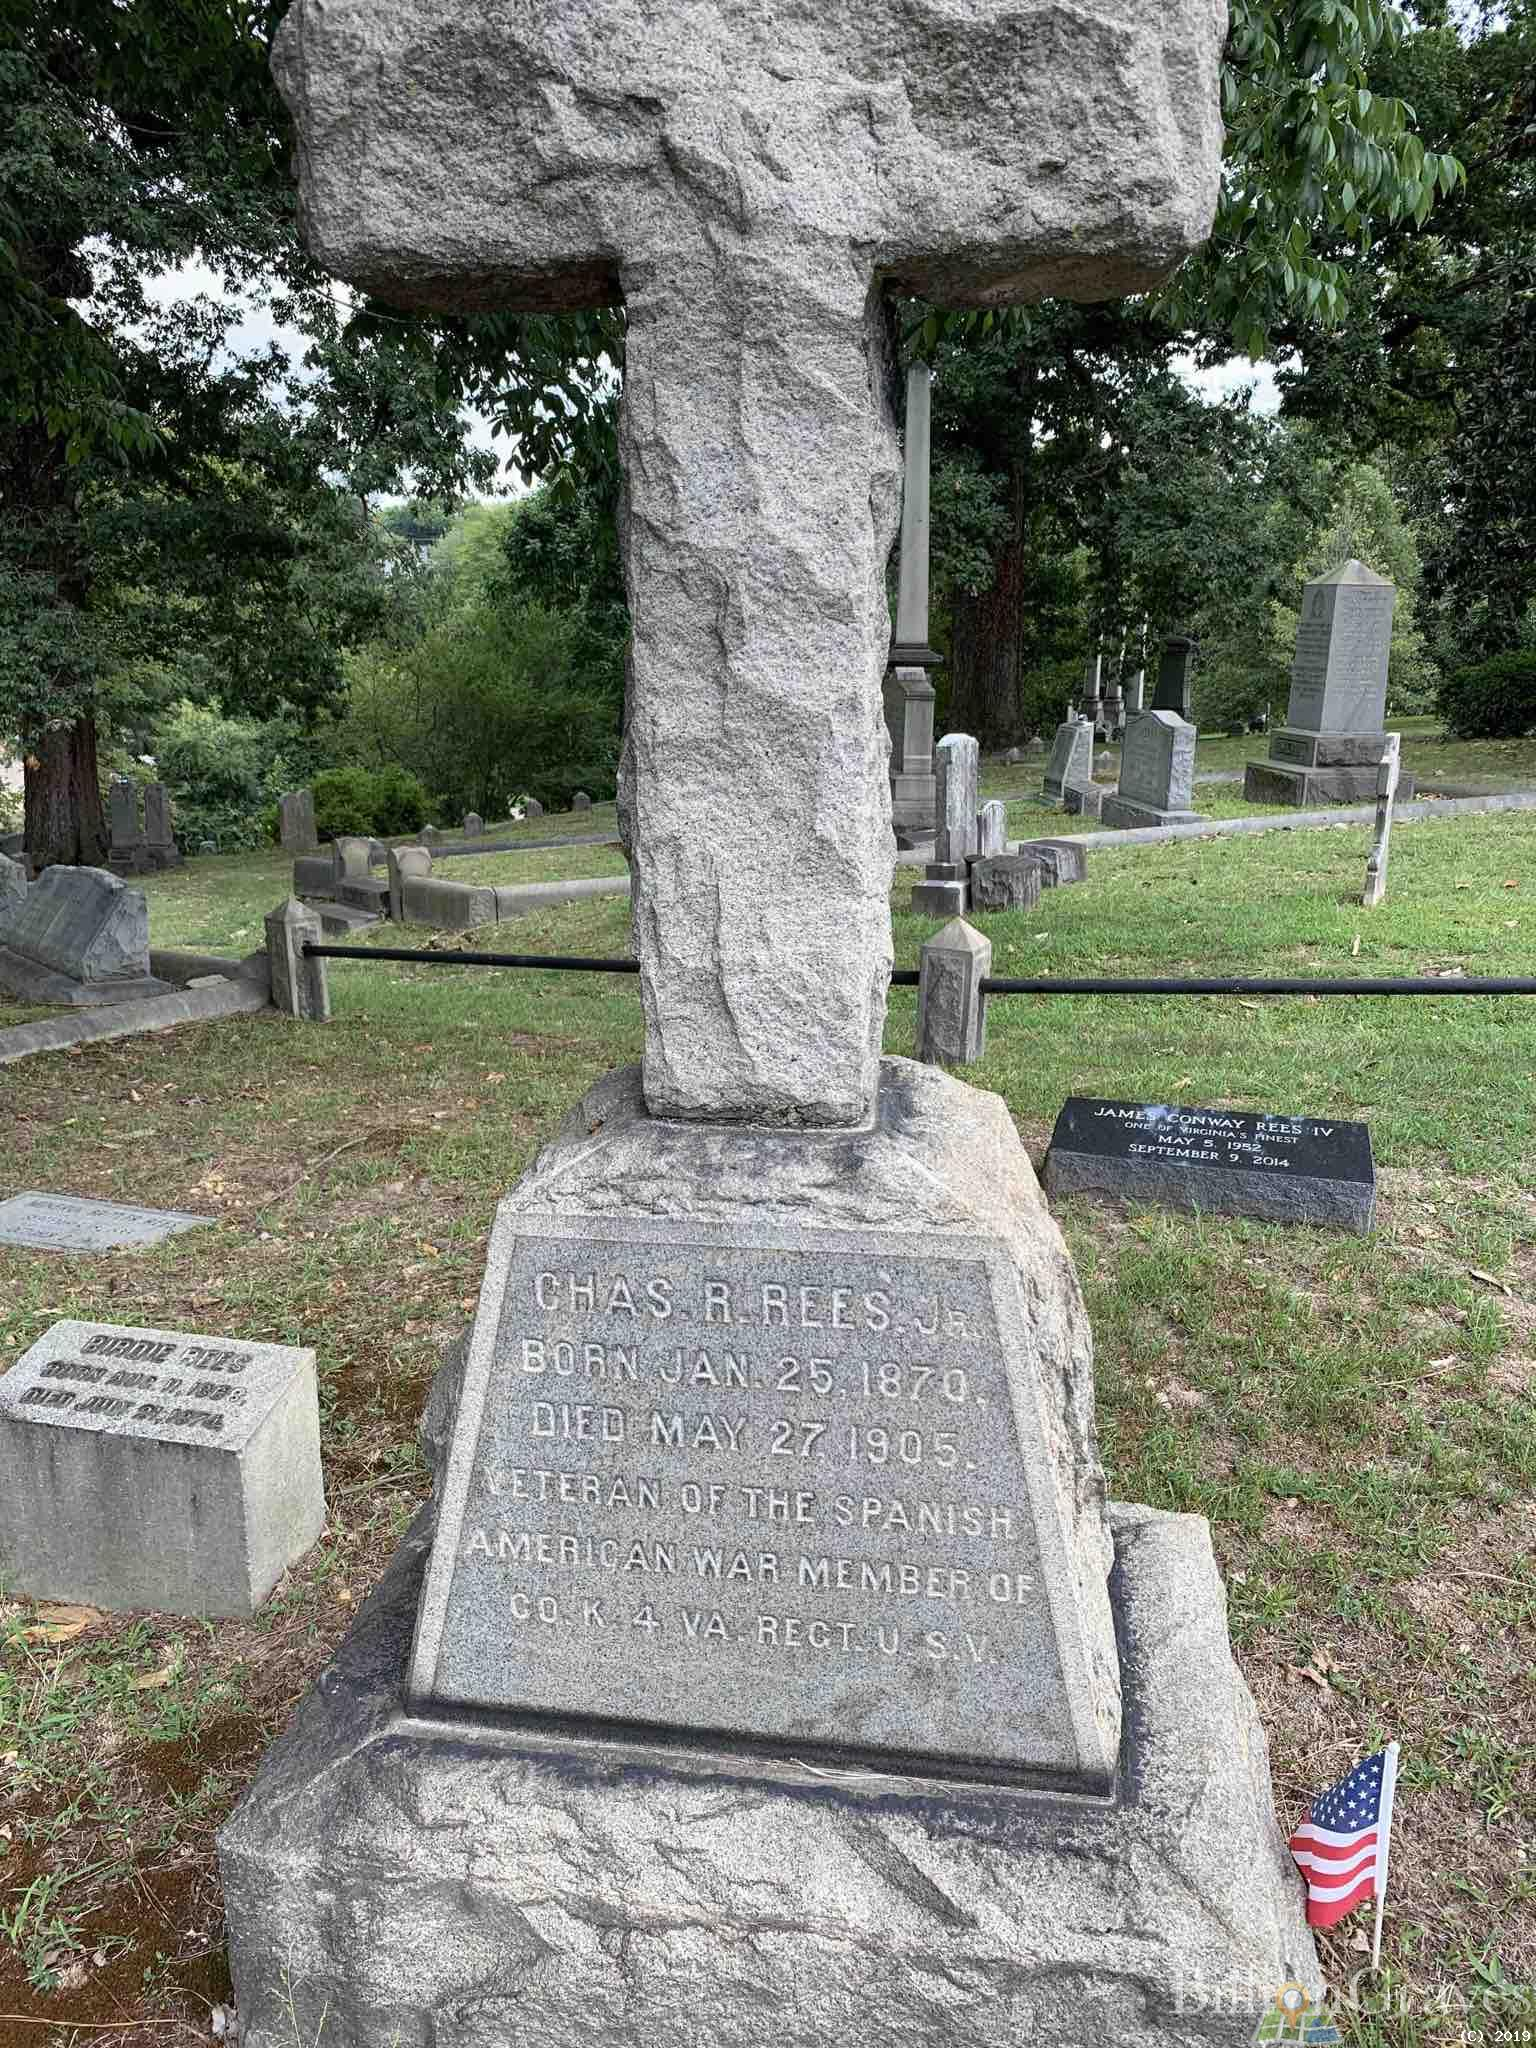obelisk: (273, 0, 1213, 1750)
